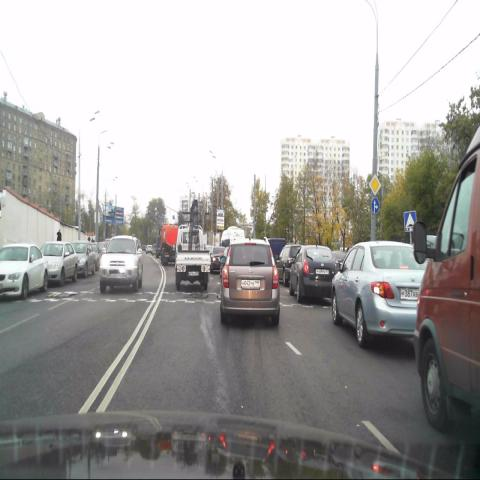5_20: (403, 211, 417, 233)
